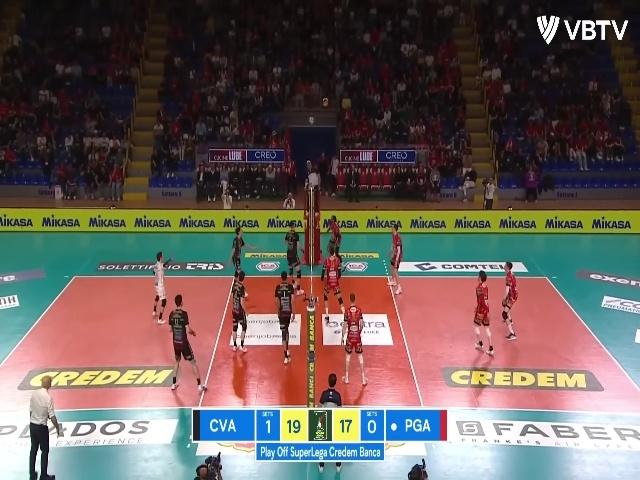volleyball court: (1, 272, 638, 412)
